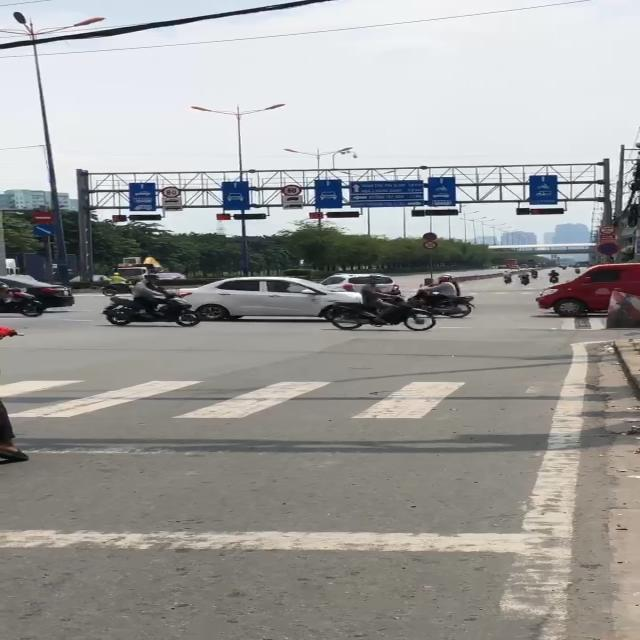Bien bao cam di nguoc chieu: (30, 211, 57, 225)
Bien bao huong phai di vong chuong ngai vat: (32, 224, 58, 238)
Bien bao toc do toi da cho phep: (160, 185, 182, 199), (280, 184, 303, 197)
